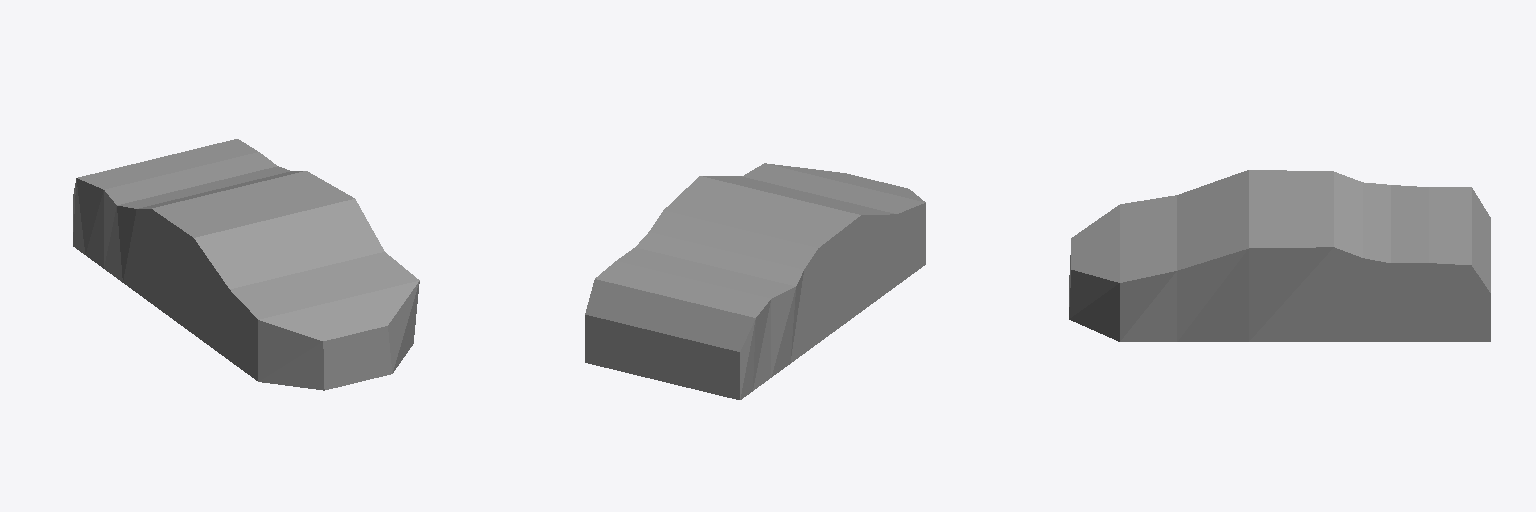
File: carreraGT_hull.obj
3 views of the same model, side by side, from view 1: azimuth 30°, elevation 25°; view 2: azimuth 150°, elevation 25°; view 3: azimuth 270°, elevation 25° (orthographic).
Visible parts, largest first — view 1: Cube_Cube.003; view 2: Cube_Cube.003; view 3: Cube_Cube.003.
Boxes of the visible parts, <box> form: Cube_Cube.003: <box>73,139,419,390</box>; Cube_Cube.003: <box>585,163,925,399</box>; Cube_Cube.003: <box>1069,170,1490,341</box>.
Size of the model in its own units: 7.26 by 4.01 by 15.85.